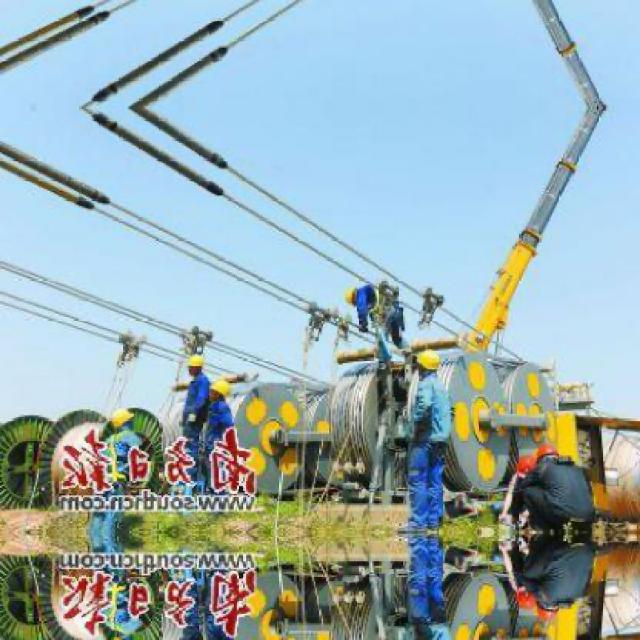helmet: (183, 346, 214, 380), (416, 344, 444, 378), (109, 404, 143, 430), (208, 375, 237, 403), (537, 440, 563, 469), (537, 596, 563, 624), (343, 283, 363, 306), (108, 632, 143, 638)
